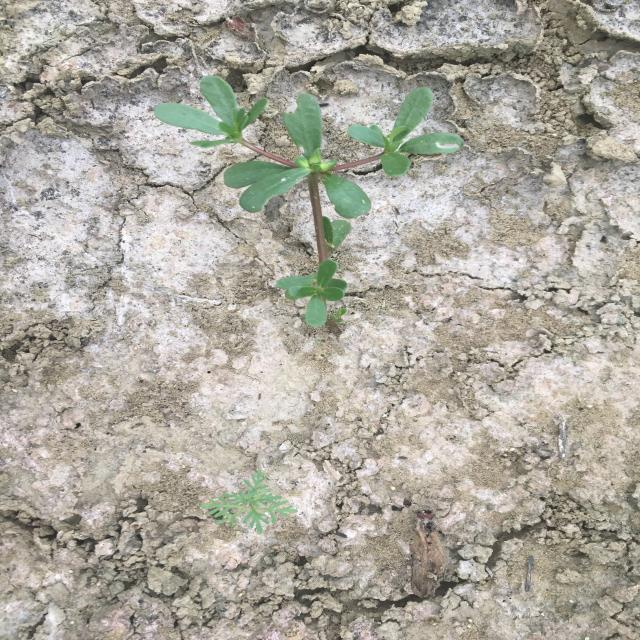Purslane: (150, 74, 466, 337)
Ragweed: (200, 469, 299, 536)
